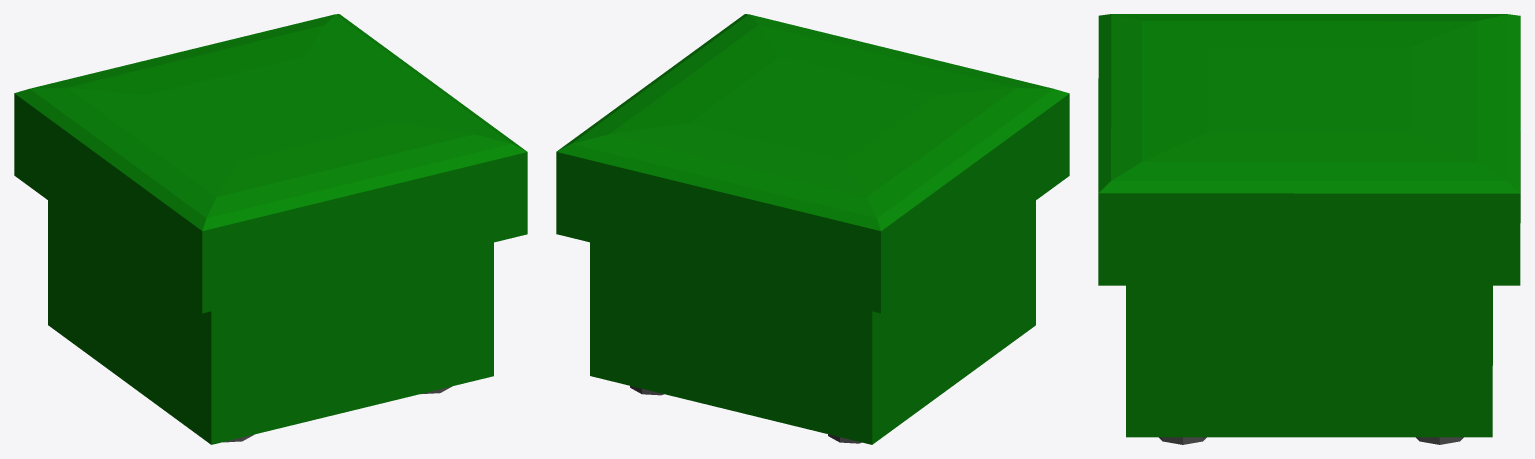
File: puffy_visual_green.dae
3 views of the same model, side by side, from view 1: azimuth 30°, elevation 25°; view 2: azimuth 150°, elevation 25°; view 3: azimuth 270°, elevation 25° (orthographic). The views are drawn at different scales.
Parts seen in each view (by area): view 1: Circle; view 2: Circle; view 3: Circle.
Boxes of the visible parts, left/top/right/bottom form: Circle: left=14, top=14, right=527, bottom=444; Circle: left=556, top=14, right=1069, bottom=444; Circle: left=1098, top=14, right=1520, bottom=444.
Size of the model in its own units: 50.51 by 50.7 by 38.24.
